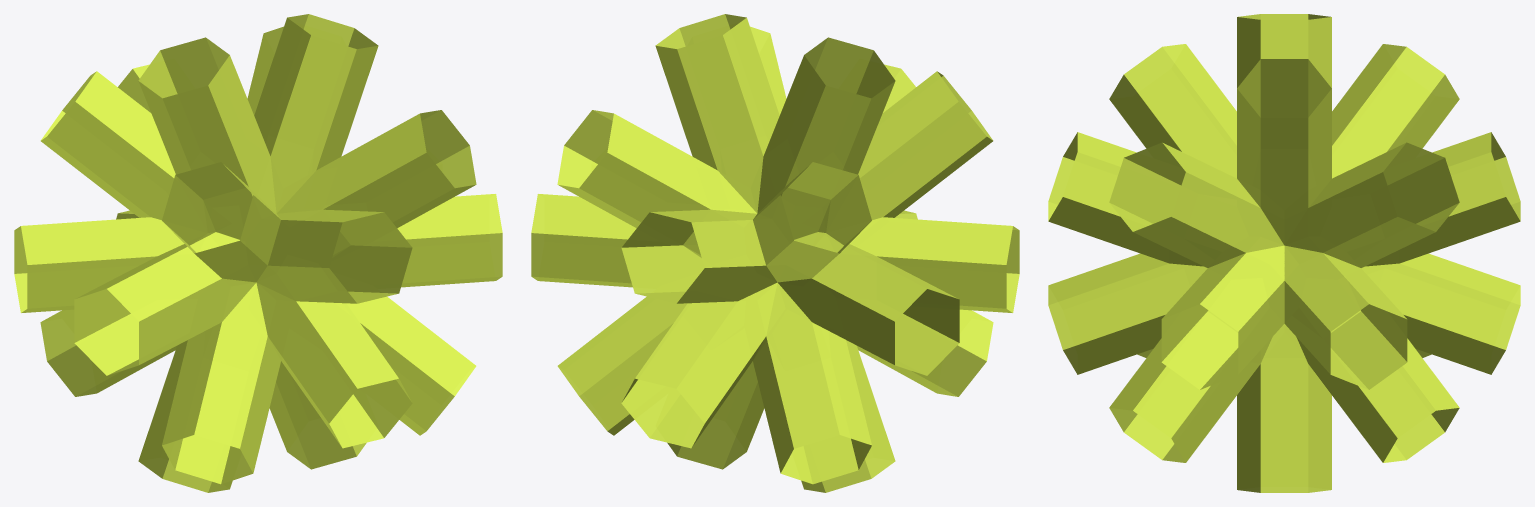
Rendered from SmallDodecahemicosacron.obj.
3 renders of one model, left to right at view 1: azimuth 30°, elevation 25°; view 2: azimuth 150°, elevation 25°; view 3: azimuth 270°, elevation 25°, orthographic.
Bounding box in the file's own units: 9.96 × 9.96 × 9.96.
